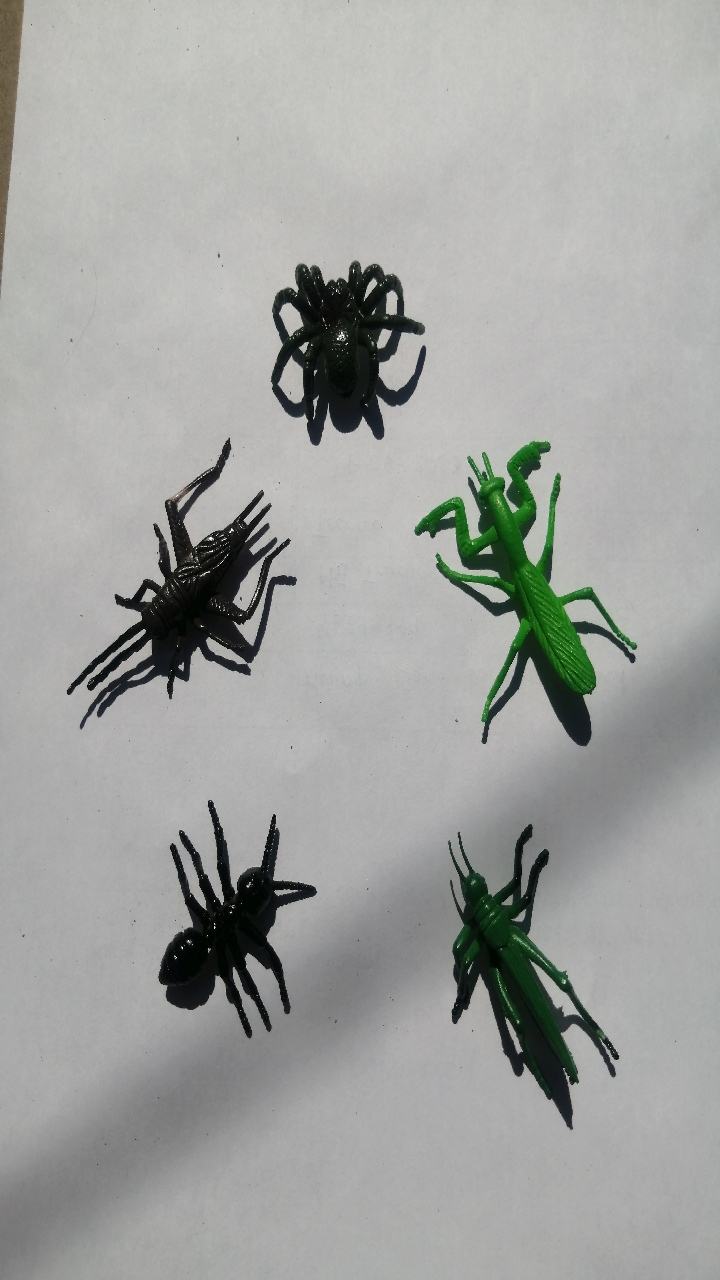intruso: (44, 426, 303, 800), (404, 408, 649, 768), (418, 791, 644, 1157), (128, 760, 348, 1071), (251, 219, 432, 471)
